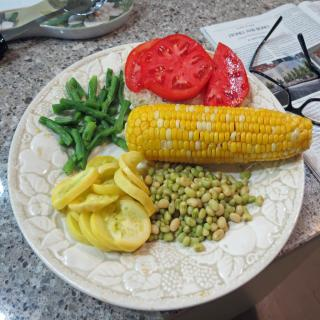tomato: (139, 33, 212, 100), (124, 38, 163, 92), (211, 50, 250, 100)
